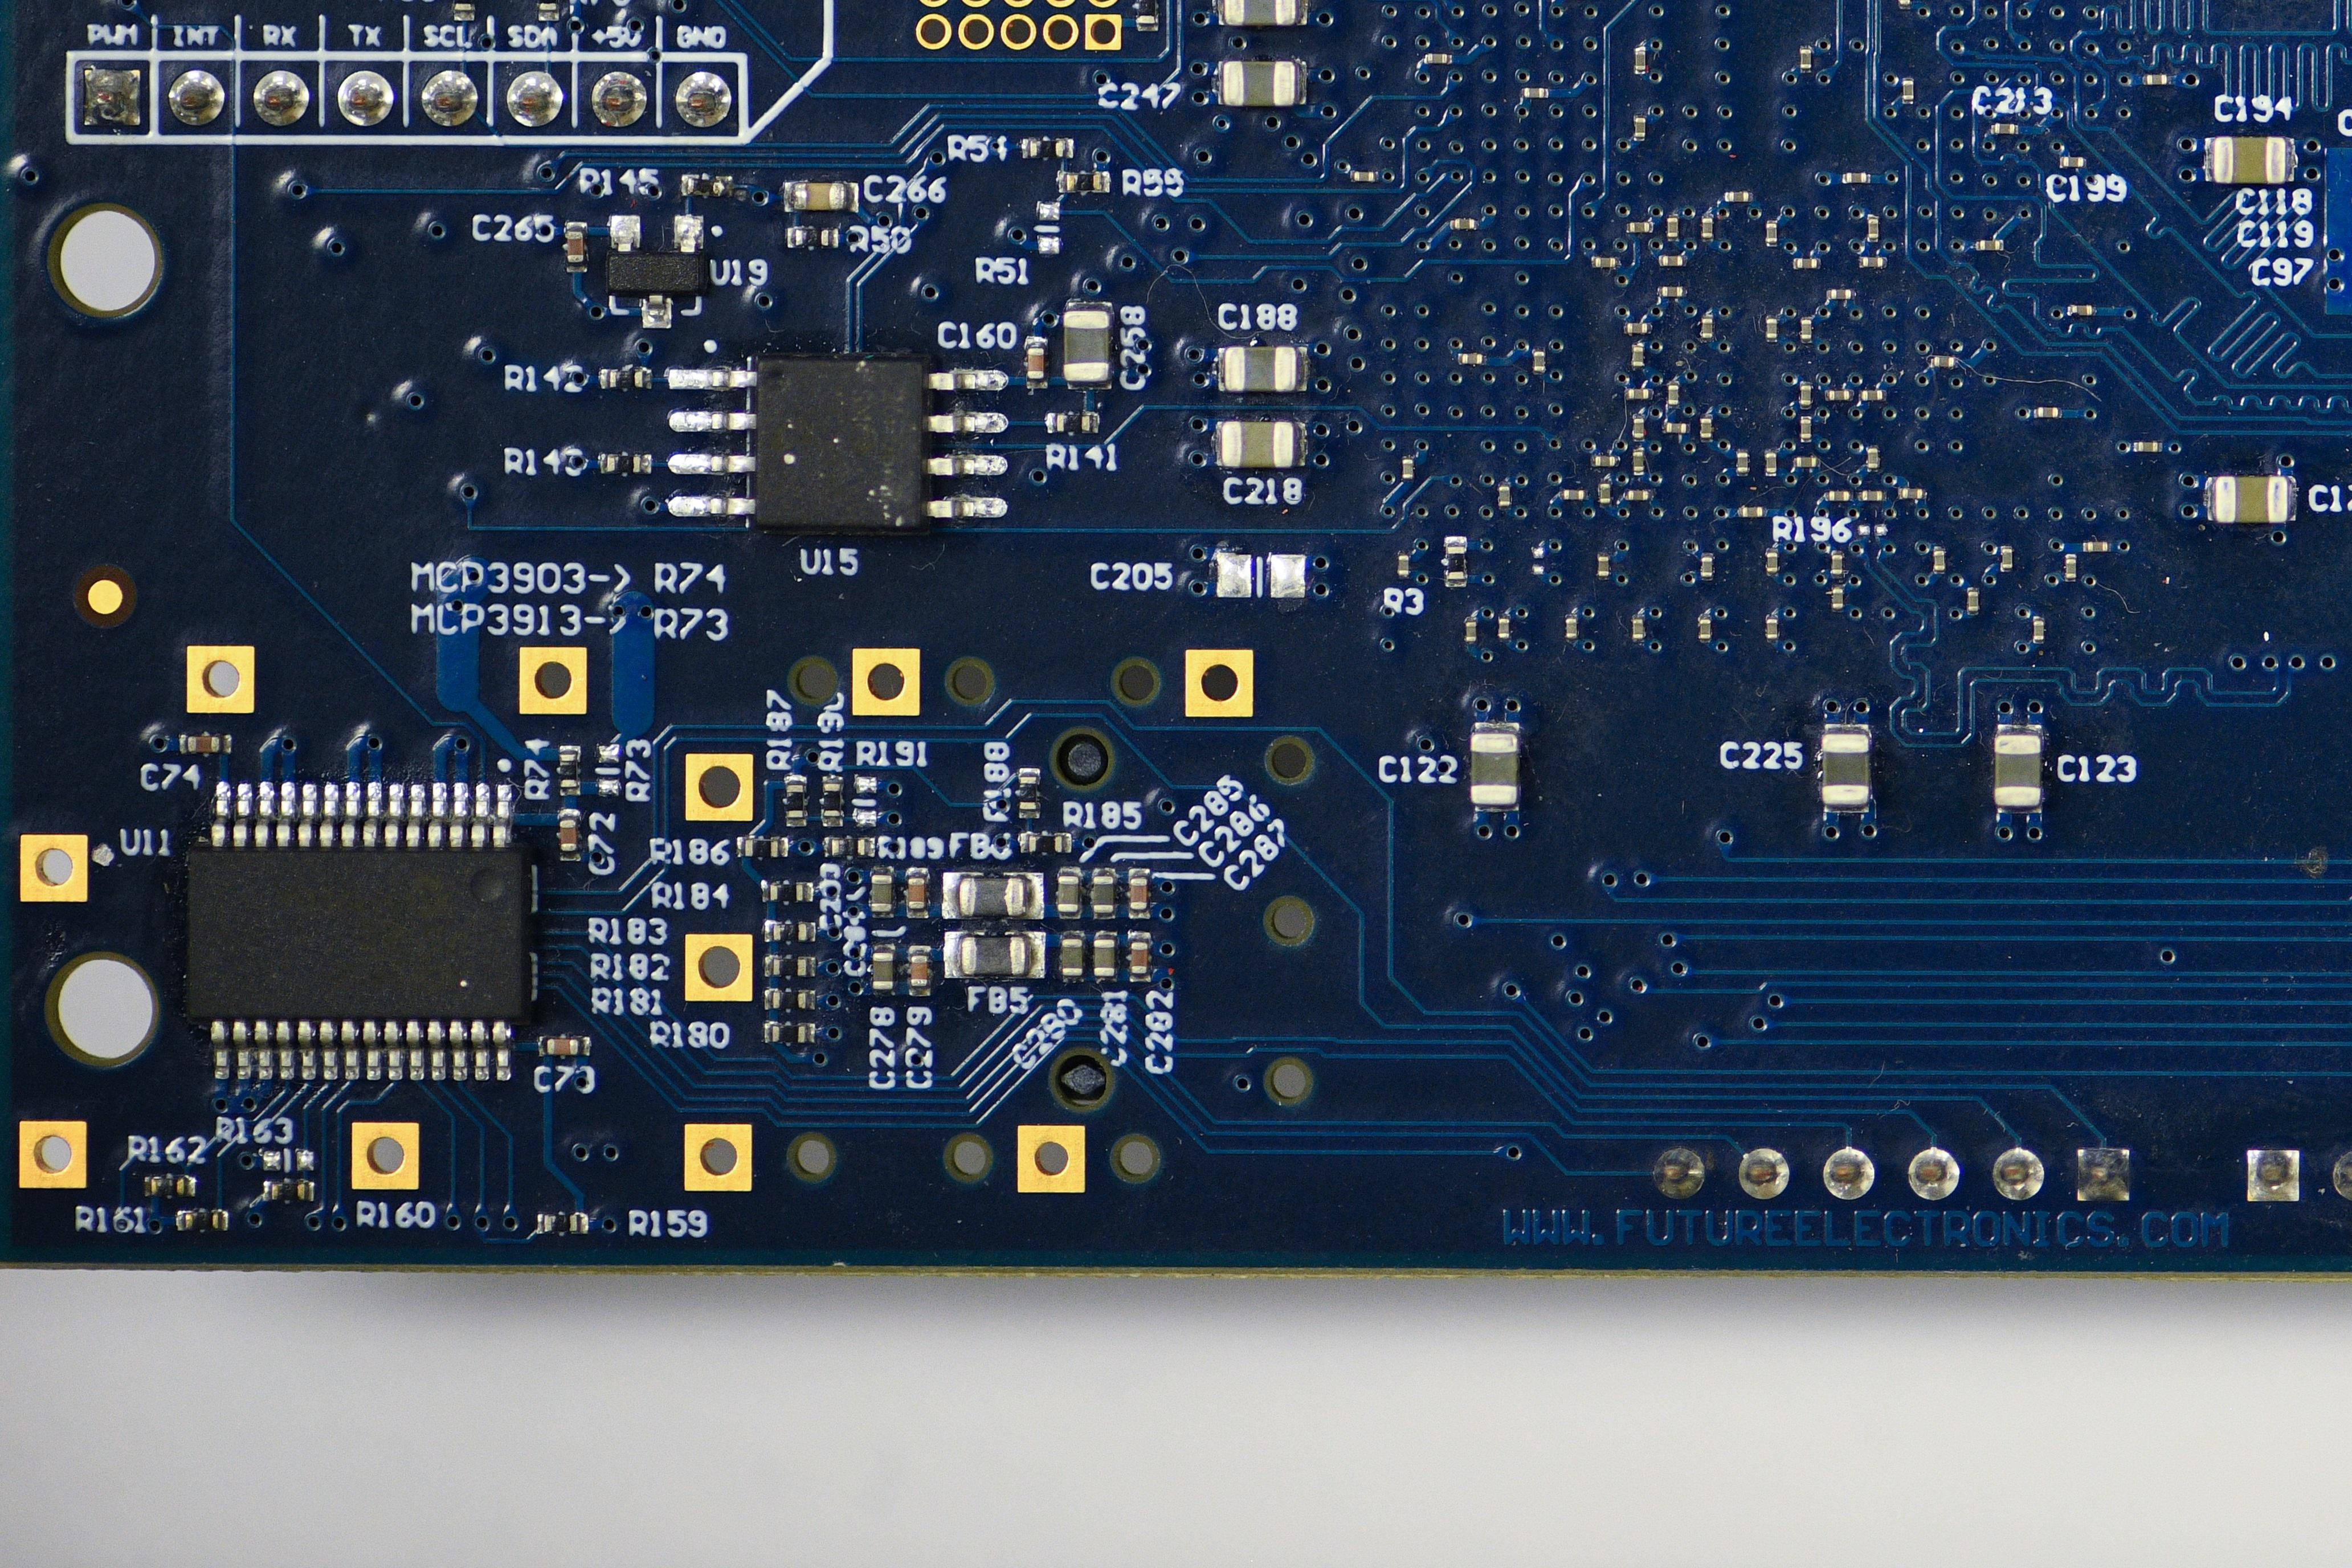ICs: (181, 838, 536, 1025), (749, 348, 929, 542), (604, 241, 712, 305)
capacitors: (1818, 729, 1873, 811), (1465, 728, 1522, 808), (2211, 471, 2292, 526), (1991, 729, 2044, 811), (1217, 417, 1297, 471), (2208, 133, 2289, 186), (1220, 342, 1300, 394), (1218, 57, 1298, 108), (1060, 307, 1112, 385), (1220, 0, 1300, 29), (788, 178, 850, 213), (1054, 870, 1083, 914), (867, 871, 896, 915), (1089, 871, 1117, 916), (1058, 934, 1085, 980), (869, 948, 896, 993), (1091, 934, 1117, 980), (562, 227, 588, 267), (905, 873, 930, 912), (1126, 874, 1151, 913), (556, 815, 579, 855), (1023, 344, 1047, 382), (542, 1034, 581, 1058), (907, 950, 930, 991), (1126, 937, 1149, 978), (185, 732, 222, 756), (1399, 456, 1416, 482), (1459, 350, 1485, 367), (1561, 486, 1587, 503), (1592, 452, 1618, 469), (1625, 486, 1651, 503), (1664, 418, 1690, 435), (1739, 503, 1765, 520), (1791, 452, 1818, 469), (1826, 487, 1852, 504), (1859, 486, 1885, 503), (1899, 485, 1925, 502), (2085, 537, 2112, 554), (2134, 438, 2160, 455), (2035, 403, 2061, 420), (1859, 386, 1885, 403), (1825, 387, 1851, 405), (1624, 385, 1651, 402), (1932, 353, 1958, 370), (2068, 301, 2094, 318), (1977, 236, 2003, 254), (1859, 254, 1885, 271), (1827, 285, 1853, 302), (1794, 255, 1820, 272), (1659, 282, 1685, 299), (1658, 252, 1684, 269), (1592, 253, 1619, 270), (1626, 218, 1652, 235), (1453, 215, 1479, 232), (1351, 168, 1377, 185), (1423, 50, 1449, 67), (1521, 84, 1547, 101), (1725, 187, 1751, 204), (1843, 170, 1869, 187), (2060, 153, 2086, 170), (1992, 120, 2018, 137), (2143, 71, 2170, 88), (1532, 347, 1547, 374), (1395, 552, 1411, 579), (1463, 618, 1479, 646), (1496, 614, 1512, 642), (1563, 614, 1579, 642), (1595, 552, 1611, 579), (1496, 482, 1512, 509), (1596, 480, 1612, 507), (1630, 448, 1646, 476), (1630, 414, 1646, 442), (1665, 381, 1681, 409), (1698, 414, 1714, 442), (1734, 448, 1750, 476), (1762, 448, 1778, 476), (1763, 548, 1779, 575), (1698, 552, 1714, 579), (1697, 615, 1713, 643), (1630, 615, 1646, 643), (1763, 615, 1779, 643), (1830, 583, 1845, 611), (1828, 550, 1844, 578), (1931, 545, 1947, 573), (1965, 587, 1981, 614), (1999, 545, 2015, 572), (2062, 555, 2078, 582), (2030, 616, 2045, 644), (1864, 444, 1880, 471), (1797, 415, 1813, 442), (1797, 383, 1813, 410), (1798, 45, 1814, 72), (1763, 315, 1779, 342), (1700, 313, 1716, 341), (1630, 343, 1646, 370), (1798, 315, 1814, 342), (1865, 213, 1881, 240), (1763, 219, 1779, 246), (1699, 214, 1715, 242), (1665, 214, 1681, 241), (1632, 113, 1648, 141), (1632, 44, 1648, 72), (1900, 76, 1916, 103), (1897, 0, 1914, 10), (1559, 0, 1586, 2), (1992, 0, 2019, 2)
inductors: (956, 931, 1031, 979), (955, 872, 1029, 920)
resistors: (600, 451, 644, 476), (538, 1210, 583, 1236), (819, 779, 844, 822), (791, 225, 832, 251), (181, 1209, 223, 1235), (1444, 542, 1468, 585), (827, 835, 870, 859), (146, 1174, 189, 1198), (1062, 170, 1104, 194), (605, 366, 646, 390), (1052, 411, 1094, 435), (783, 780, 807, 822), (1026, 137, 1067, 161), (1015, 772, 1039, 812), (741, 836, 782, 860), (770, 1022, 810, 1046), (770, 955, 810, 979), (770, 920, 810, 944), (766, 880, 806, 904), (769, 989, 810, 1012), (556, 750, 579, 791), (267, 1181, 308, 1203), (685, 175, 724, 199), (1026, 831, 1064, 855), (1135, 0, 1159, 27), (534, 0, 562, 15), (450, 0, 476, 14)
